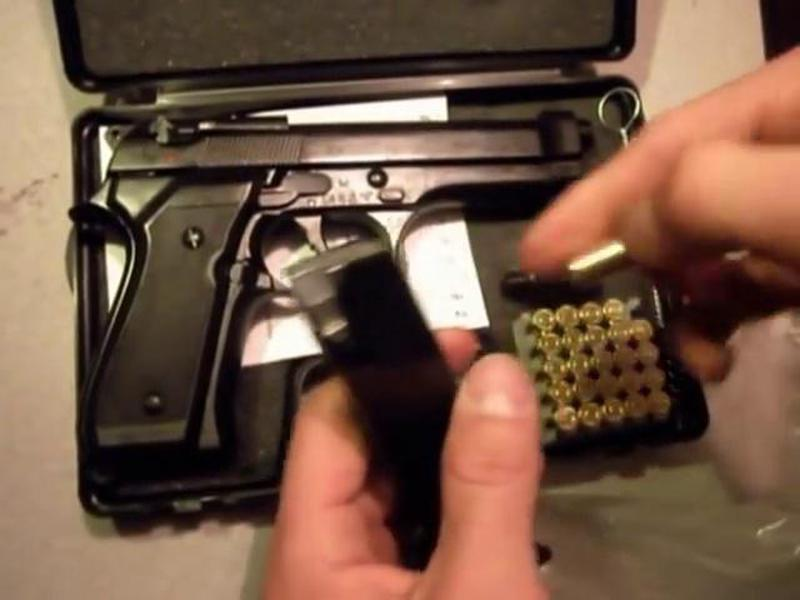Pistola: (89, 97, 644, 482)
